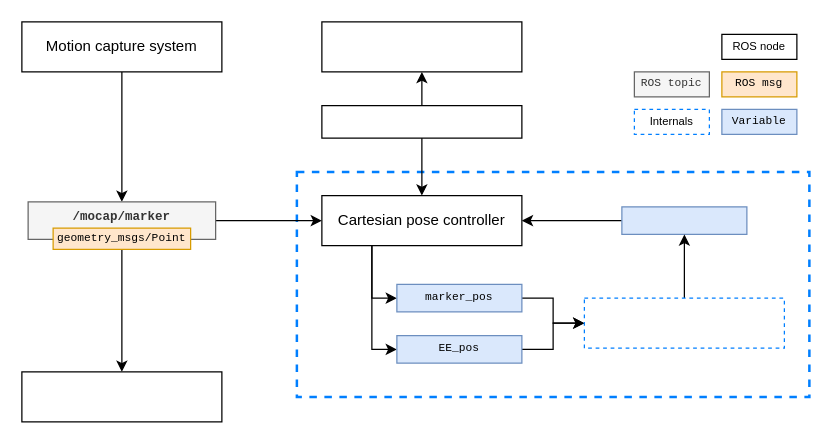
The diagram is 833 pixels wide and 444 high, and some of its shapes have lost their labels. The centre of each missing label's shape, as x and y in pixels:
"EE_pos_des" belongs at point (684, 220).
"PlotJuggler" belongs at point (121, 396).
"Robot" belongs at point (421, 46).
"ROS Control + Franka ROS" belongs at point (421, 121).
"Velocity Profile (KDL)" belongs at point (683, 322).
